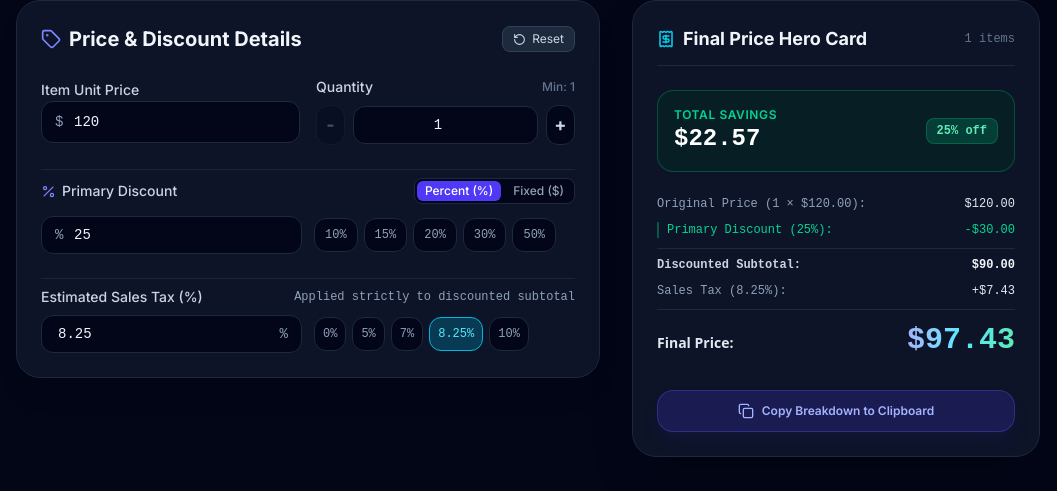
Test: OmniCalc Acceptance Test Suite (Stories S-1 to S-7) › Story S-2: Quantity Scaling & Reset › scales quantity: $97.43 unit price at quantity 4 -> Total $389.72 and Savings $90.28
Replace the text in the number field showing "1" below "Quantity" with "4" at (445, 125), box [353, 106, 538, 144]
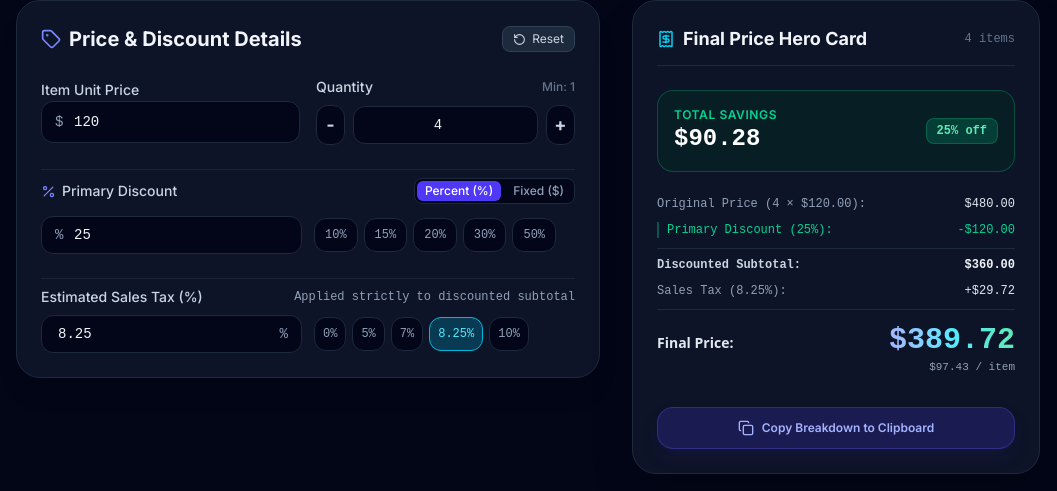
Now the element showing "Final Price: $389.72 $97.43 / item" is shown, box [657, 309, 1015, 375]
Now the element with test id "total-savings-badge" shows "$90.28", box [674, 125, 760, 152]
